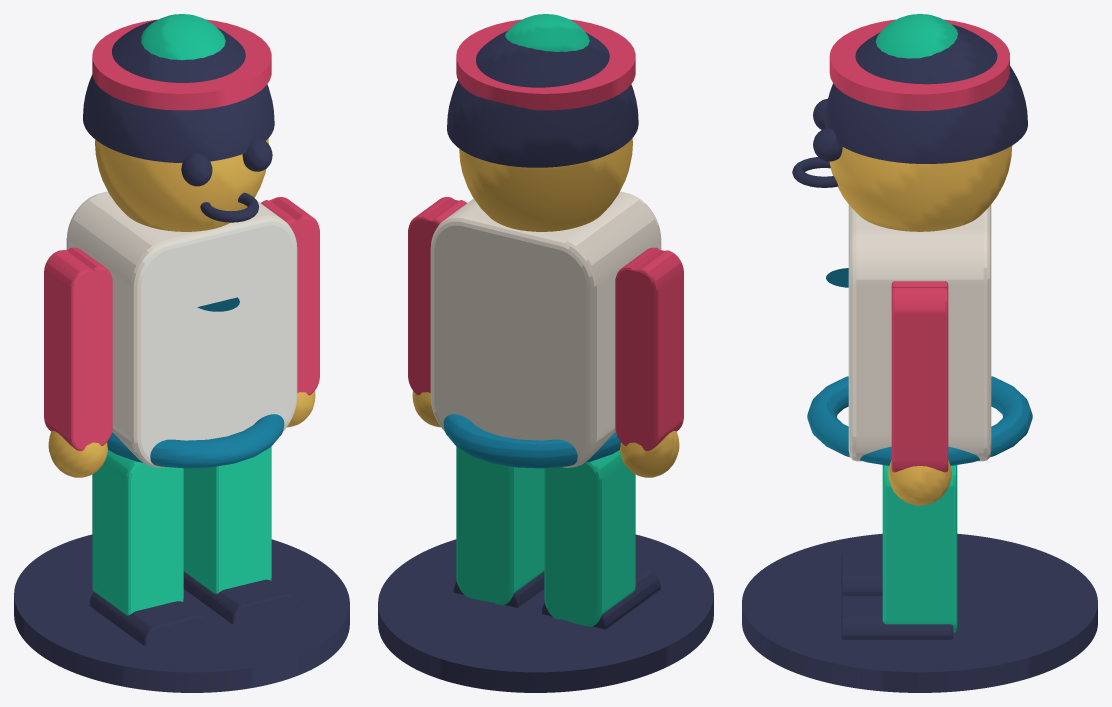
The model's file is 0915_秦汉图鉴_营地.glb.
3 renders of one model, left to right at view 1: azimuth 30°, elevation 25°; view 2: azimuth 150°, elevation 25°; view 3: azimuth 270°, elevation 25°, orthographic.
Visible parts, largest first — view 1: card_0915; view 2: card_0915; view 3: card_0915.
Boxes of the visible parts, x1,y1,x2,y2 form: card_0915: [14, 14, 349, 692]; card_0915: [378, 14, 713, 692]; card_0915: [742, 14, 1097, 692].
Bounding box in the file's own units: 0.4974 × 1 × 0.5342.
